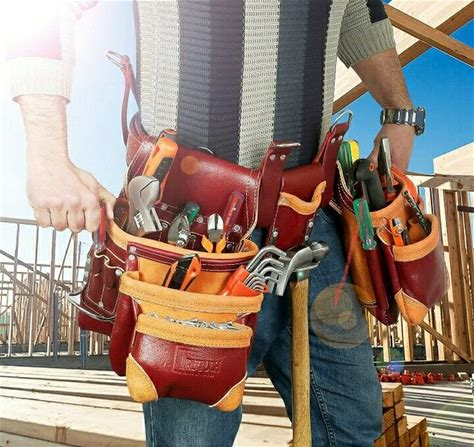cuero: (76, 105, 451, 414)
